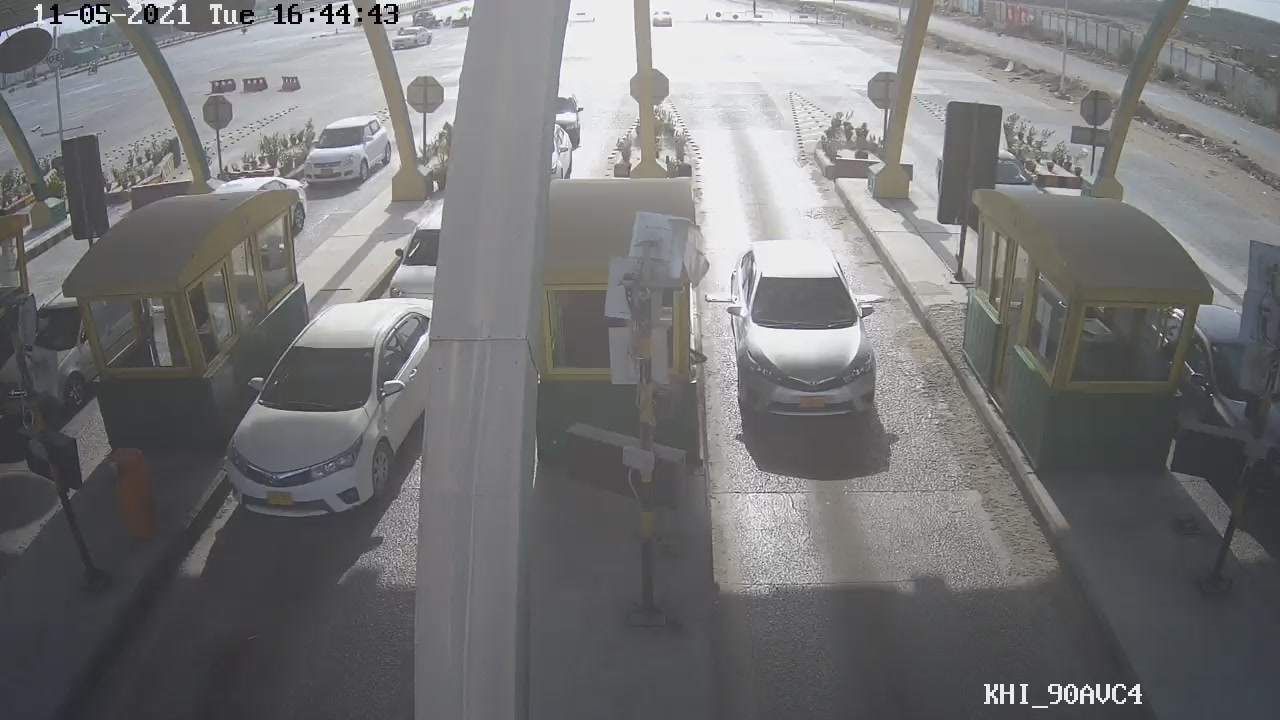F1: (715, 237, 893, 428)
